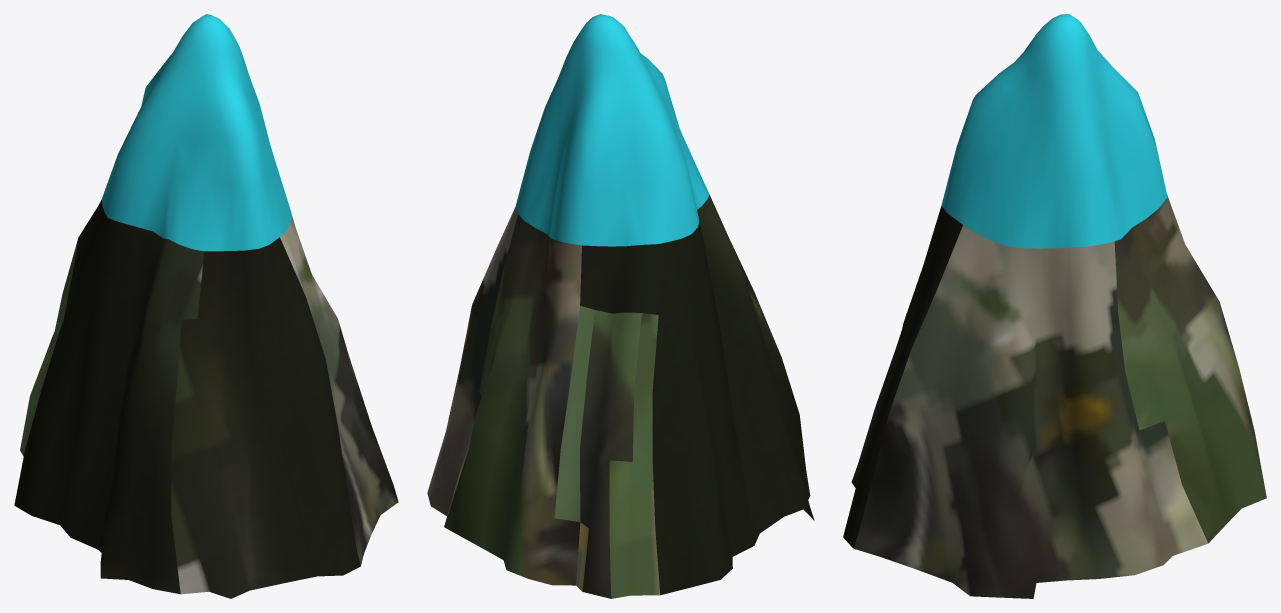
File: Mount_1.2(Snow).fbx
3 views of the same model, side by side, from view 1: azimuth 30°, elevation 25°; view 2: azimuth 150°, elevation 25°; view 3: azimuth 270°, elevation 25° (orthographic). The views are drawn at different scales.
Parts seen in each view (by area): view 1: Mount_1.2(Snow); view 2: Mount_1.2(Snow); view 3: Mount_1.2(Snow).
Part boxes in pixels (x1,y1,x2,y2): Mount_1.2(Snow): (14, 14, 398, 598); Mount_1.2(Snow): (427, 14, 814, 598); Mount_1.2(Snow): (843, 14, 1266, 598).
Size of the model in its own units: 21.58 by 32.91 by 24.84.
